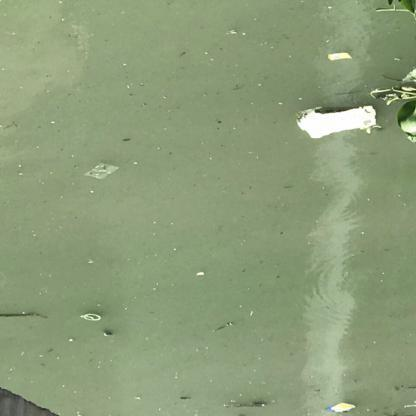Trash: (294, 104, 378, 139), (80, 158, 122, 184), (322, 46, 354, 66), (325, 397, 356, 415), (75, 305, 105, 323)
